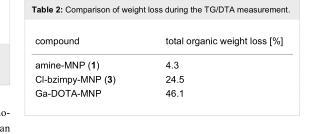table: (34, 34, 282, 97)
table column: (139, 34, 282, 97), (34, 34, 139, 97)
table row: (34, 52, 282, 71), (34, 34, 282, 52), (34, 71, 282, 85), (34, 85, 282, 97)
